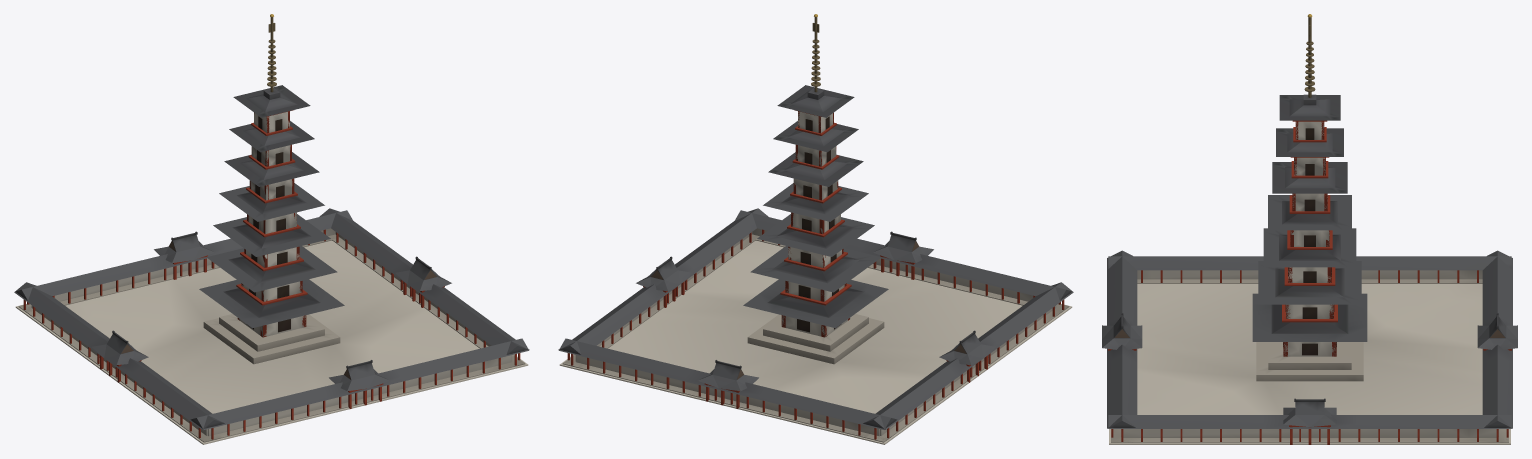
The model's file is todaiji-pagoda.glb.
3 views of the same model, side by side, from view 1: azimuth 30°, elevation 25°; view 2: azimuth 150°, elevation 25°; view 3: azimuth 270°, elevation 25° (orthographic). The views are drawn at different scales.
Visible parts, largest first — view 1: p0_grounds, p1_halls, p2_pagoda; view 2: p0_grounds, p1_halls, p2_pagoda; view 3: p0_grounds, p1_halls, p2_pagoda.
Boxes of the visible parts, x1=… form: p0_grounds: x1=15, y1=240, x2=528, y2=444; p1_halls: x1=14, y1=208, x2=529, y2=442; p2_pagoda: x1=199, y1=14, x2=344, y2=351; p0_grounds: x1=559, y1=240, x2=1072, y2=444; p1_halls: x1=558, y1=208, x2=1073, y2=442; p2_pagoda: x1=743, y1=14, x2=888, y2=351; p0_grounds: x1=1109, y1=284, x2=1510, y2=444; p1_halls: x1=1102, y1=250, x2=1517, y2=444; p2_pagoda: x1=1252, y1=14, x2=1367, y2=369.
Size of the model in its own units: 93 by 85.35 by 93.
